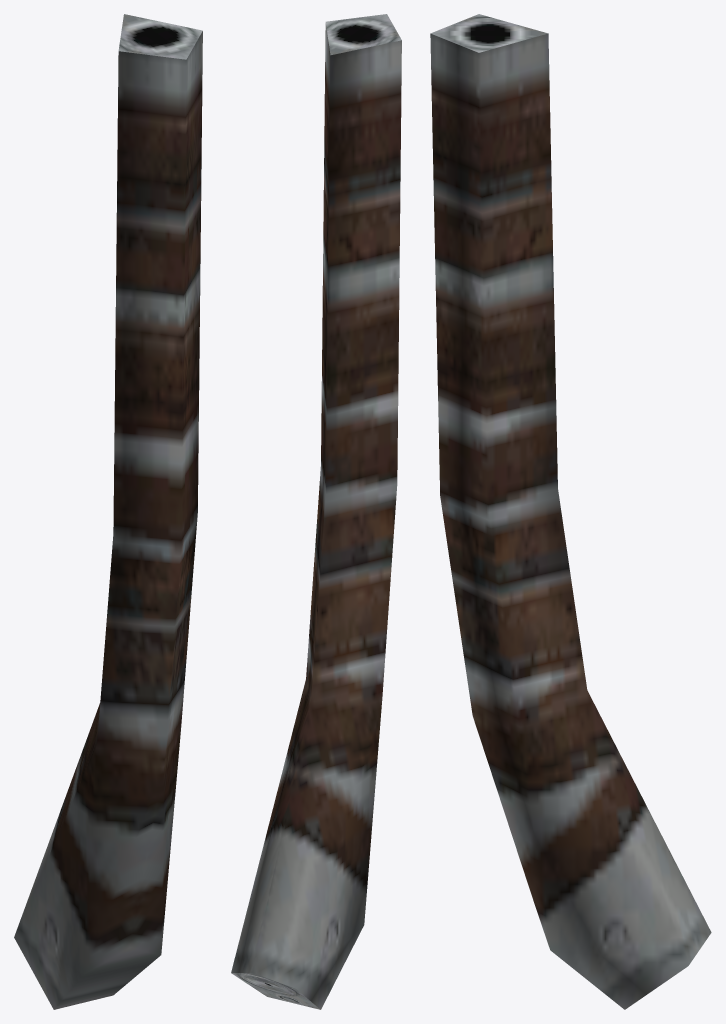
The model's file is wp_mle_2h_sword_lightsaber_leather_l2.fbx.
The picture shows the model from 3 angles, left to right: view 1: azimuth 30°, elevation 25°; view 2: azimuth 150°, elevation 25°; view 3: azimuth 270°, elevation 25°; orthographic projection. The views are drawn at different scales.
Visible parts, largest first — view 1: mesh_node; view 2: mesh_node; view 3: mesh_node.
Boxes of the visible parts, x1,y1,x2,y2 form: mesh_node: [14, 14, 202, 1009]; mesh_node: [231, 14, 401, 1009]; mesh_node: [430, 14, 711, 1009].
Bounding box in the file's own units: 0.0244 × 0.2809 × 0.0744.
Materials: 1 (1 with a texture image).
